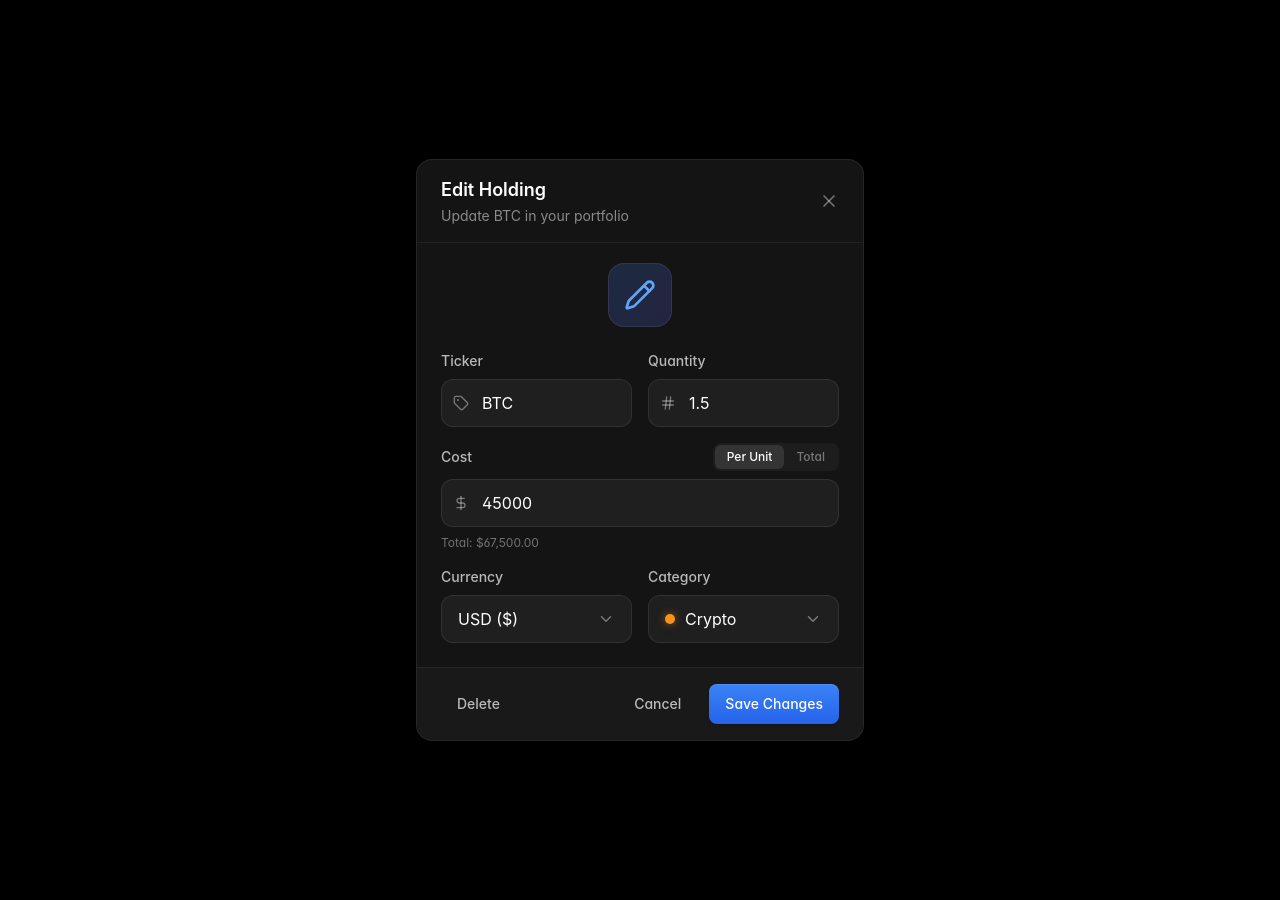
Scenario: Phase 4: Holdings Management UI › EditHoldingModal Component › should show delete confirmation when delete clicked
Step 1. Click the button "Delete" → [478, 704], box [441,684,516,724]
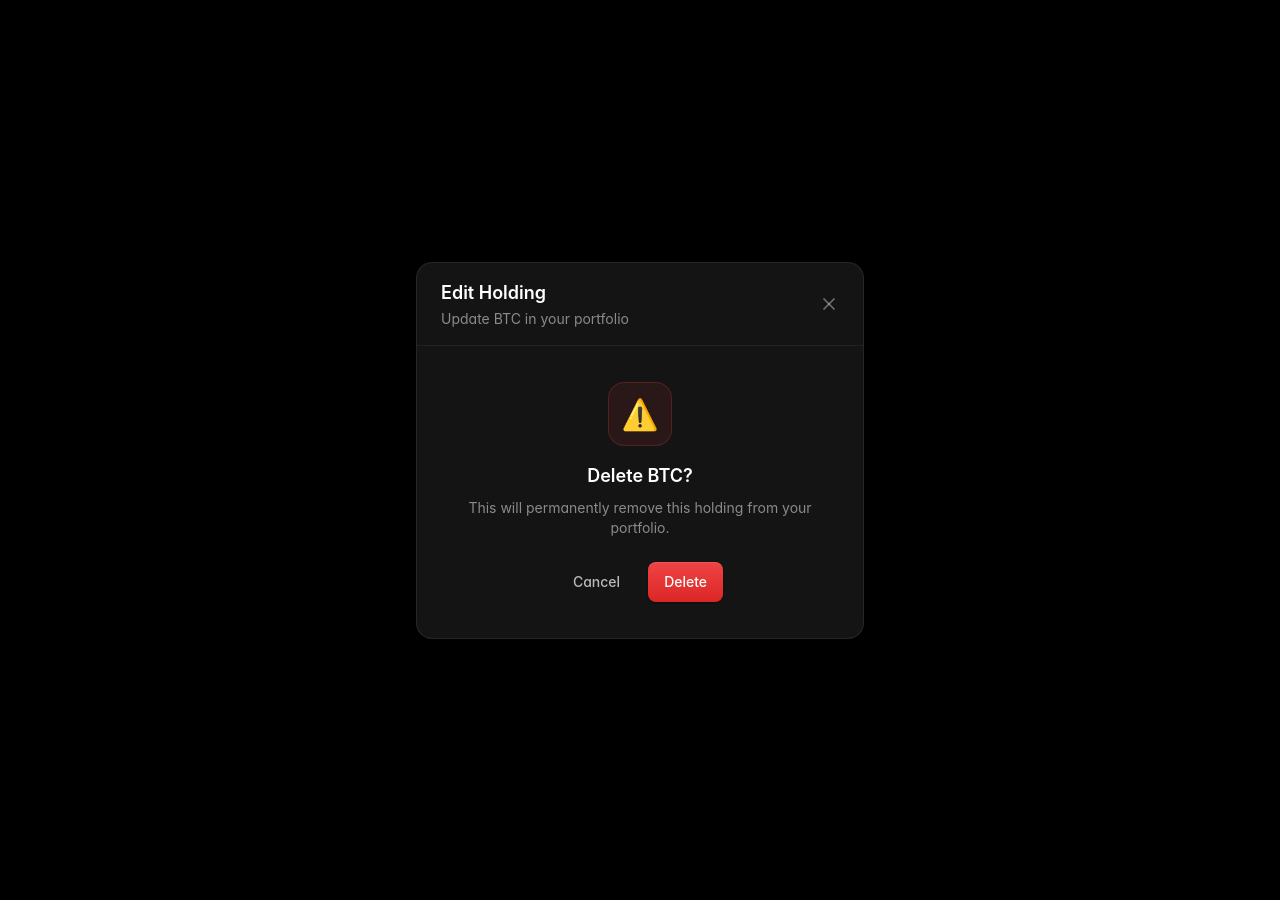
Now the heading "Delete BTC?" is shown, box [587,464,693,486]
